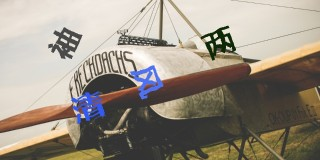两: (200, 25, 237, 62)
清: (72, 90, 106, 124)
袖: (48, 26, 83, 60)
风: (130, 64, 163, 100)
